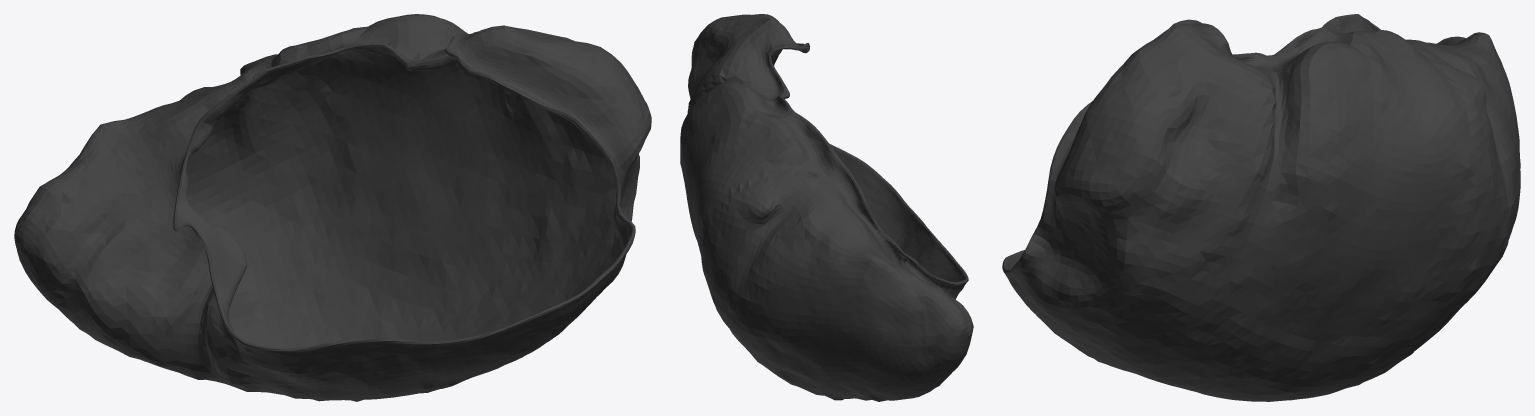
File: Tympanic_bulla_L.glb
The picture shows the model from 3 angles, left to right: view 1: azimuth 30°, elevation 25°; view 2: azimuth 150°, elevation 25°; view 3: azimuth 270°, elevation 25°; orthographic projection. The views are drawn at different scales.
Visible parts, largest first — view 1: Tympanic_bulla_L; view 2: Tympanic_bulla_L; view 3: Tympanic_bulla_L.
Part boxes in pixels (box(x1,y1,x2,y2)): Tympanic_bulla_L: box(14, 14, 651, 401); Tympanic_bulla_L: box(680, 14, 973, 401); Tympanic_bulla_L: box(1002, 14, 1520, 401).
Bounding box in the file's own units: 6.39 × 4.78 × 5.25.
Materials: 1 (1 with a texture image).
